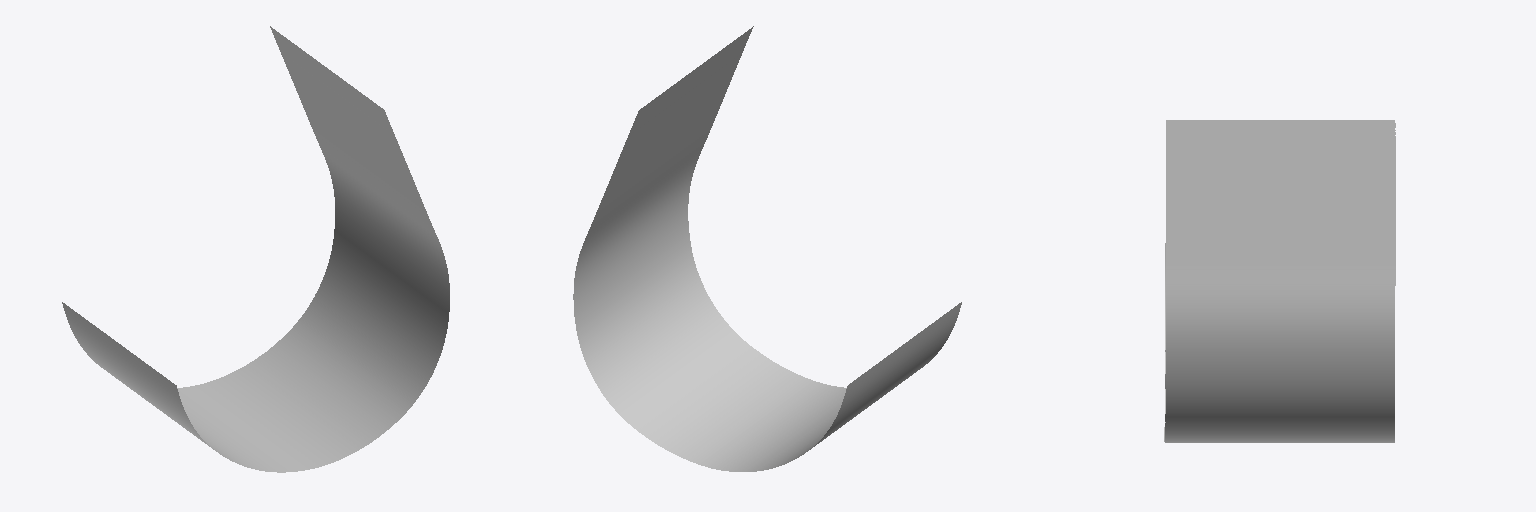
Rendered from Data_20100324_01_022.obj.
The picture shows the model from 3 angles: view 1: azimuth 30°, elevation 25°; view 2: azimuth 150°, elevation 25°; view 3: azimuth 270°, elevation 25°; orthographic projection.
Parts seen in each view (by area): view 1: mesh; view 2: mesh; view 3: mesh.
Part boxes in pixels (x1,y1,x2,y2): mesh: (62, 26, 449, 472); mesh: (573, 26, 961, 471); mesh: (1164, 120, 1395, 442).
Bounding box in the file's own units: 9352 × 11129 × 6852.